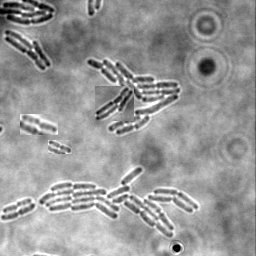Dividing: (20, 114, 58, 135), (1, 204, 37, 222), (3, 199, 33, 215), (48, 140, 72, 154)
Microcolony: (40, 167, 199, 238), (87, 59, 181, 136), (5, 30, 52, 72), (1, 1, 56, 26), (95, 86, 134, 121)
